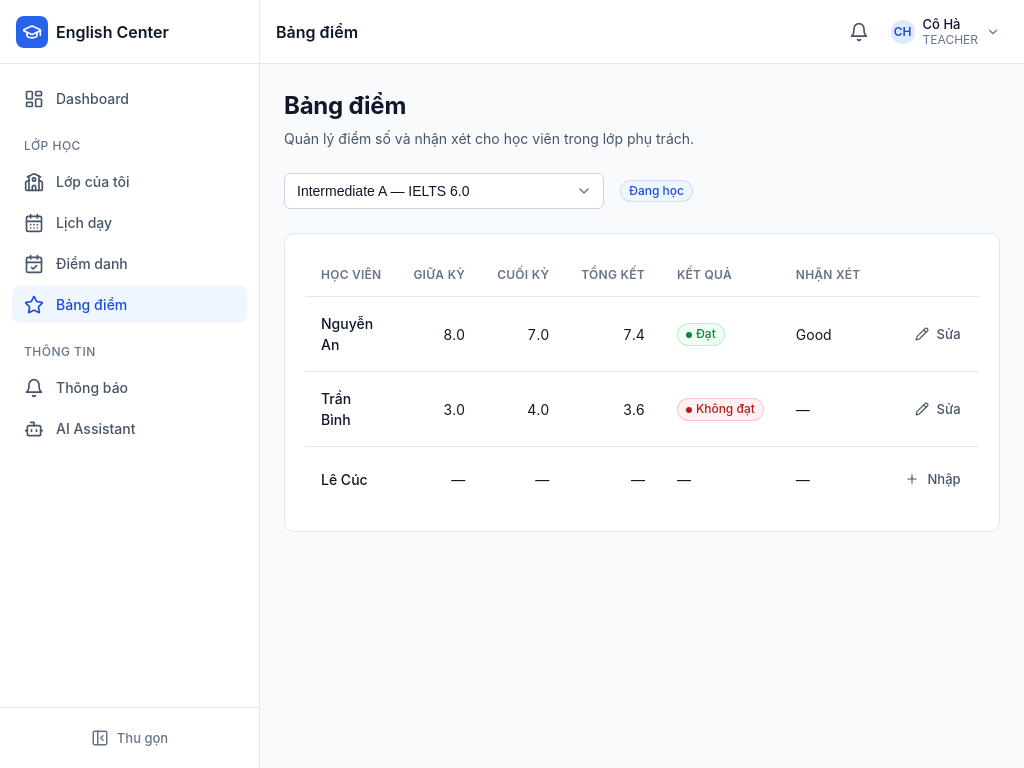
Test: TeacherScoresPage › enters edit mode when clicking "Sửa" and pre-fills existing scores
Check: the text "Nguyễn An" is shown, box top-left (321, 315), bottom-right (373, 353)
Click the button with aria-label "Sửa điểm Nguyễn An" at {"x": 938, "y": 334}, box top-left (902, 318), bottom-right (974, 350)
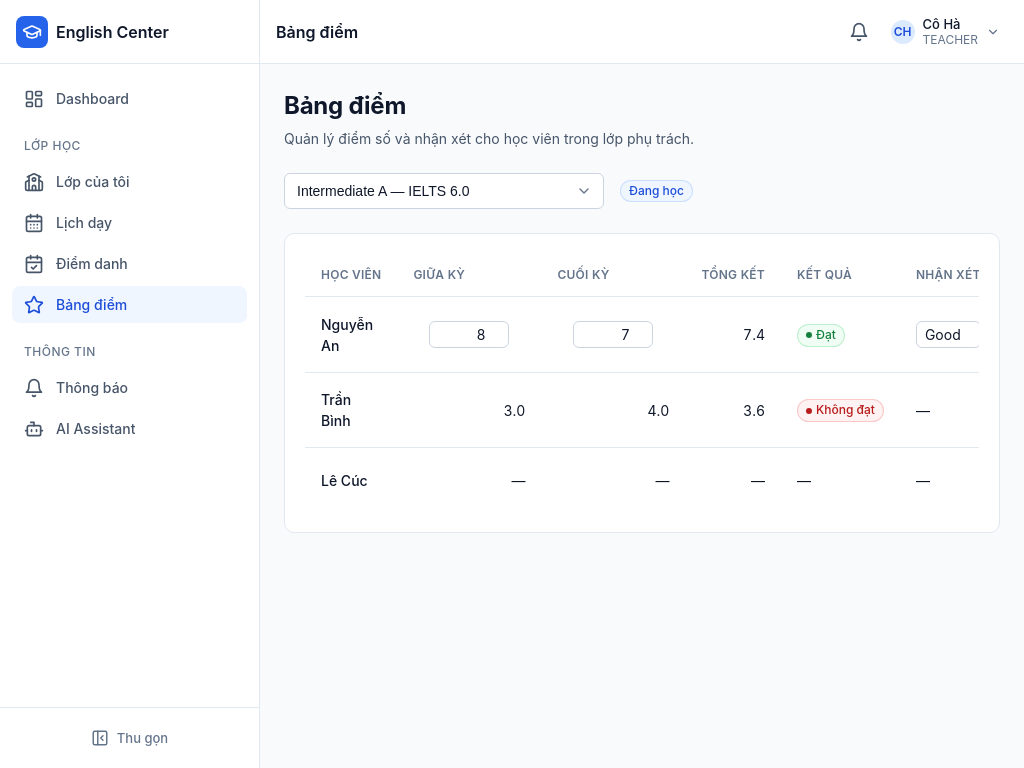
Check: the number field named "Điểm giữa kỳ" holds "8", box top-left (429, 321), bottom-right (509, 348)
Check: the number field named "Điểm cuối kỳ" holds "7", box top-left (573, 321), bottom-right (653, 348)
Check: the field named "Nhận xét" holds "Good", box top-left (916, 321), bottom-right (979, 348)
